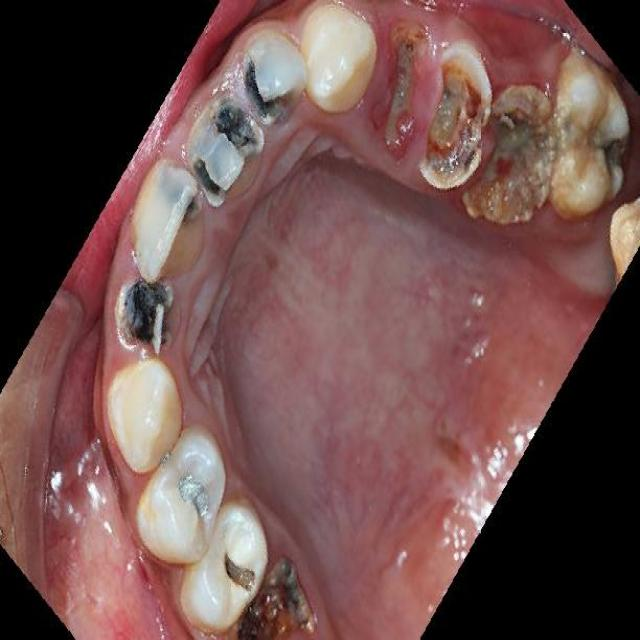caries: (487, 76, 552, 225), (379, 14, 426, 174), (432, 47, 486, 184), (189, 111, 258, 204), (255, 559, 319, 640), (116, 271, 175, 351), (238, 51, 298, 124), (153, 175, 201, 244), (216, 549, 256, 606), (180, 468, 214, 522), (604, 127, 632, 184)
